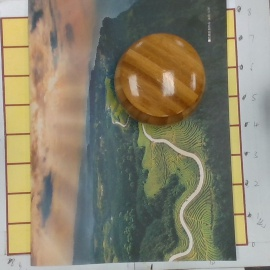chess: (117, 34, 208, 127)
